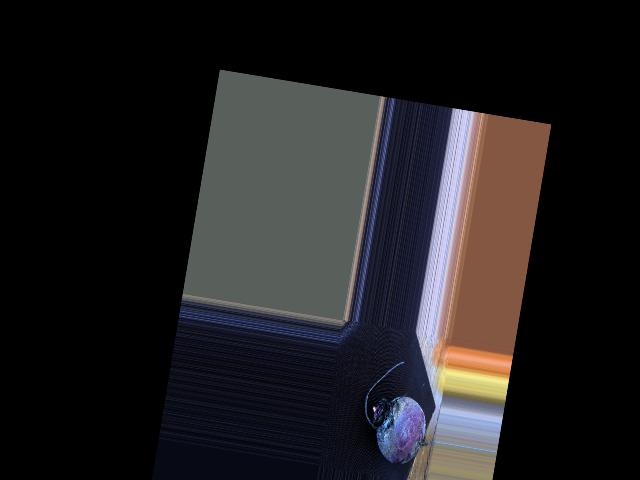beet: (355, 356, 447, 469)
